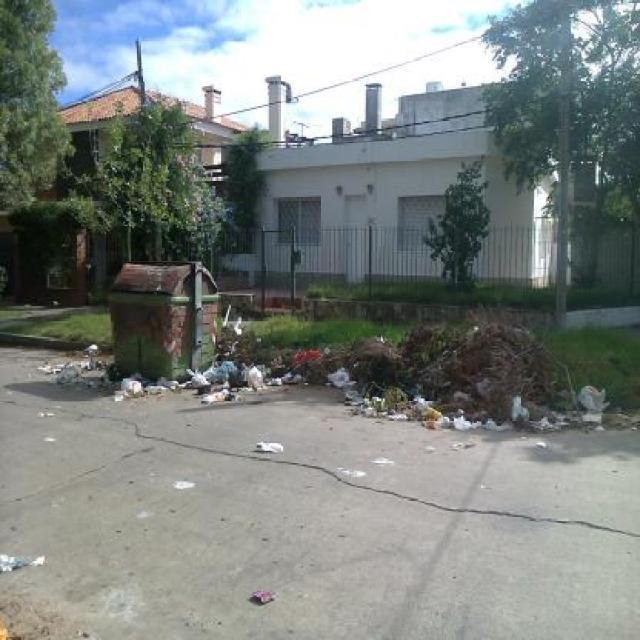garbage: (28, 337, 596, 442)
